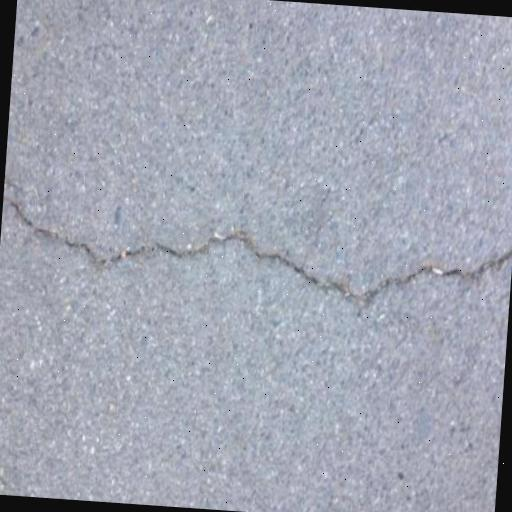spalling: (6, 177, 507, 327)
